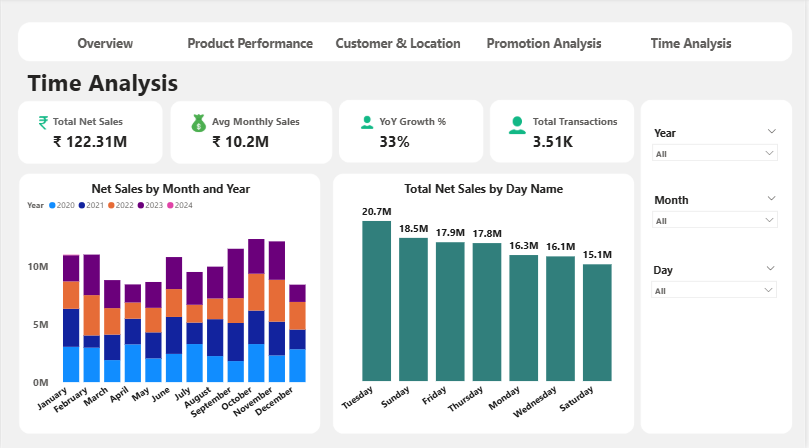

What the dashboard file says about the page in this screenshot:
{"tool":"powerbi","page":{"name":"Time Analysis","canvas":[1280,720],"ordinal":4},"visuals":[{"type":"columnChart","title":"Net Sales by Month and Year","fields":{"Category":["fact_sales.month_name"],"Y":["Measures (2).Total Net Sales"],"Series":["fact_sales.Year"]},"box":[36.3,290.6,467,401.3],"z":0},{"type":"clusteredColumnChart","fields":{"Category":["fact_sales.Day Name"],"Y":["Measures (2).Total Net Sales"]},"box":[534.5,290.6,467,401.3],"z":1000},{"type":"actionButton","title":"Overview","box":[55.8,49.2,220,45],"z":2000},{"type":"actionButton","box":[287.2,49.2,219.9,44.3],"z":3000},{"type":"actionButton","box":[521.8,49.2,219.9,44.3],"z":4000},{"type":"actionButton","box":[754.9,49.2,219.9,44.3],"z":5000},{"type":"actionButton","box":[989.5,49.2,219.9,44.3],"z":6000},{"type":"cardVisual","fields":{"Data":["Measures (2).Total Net Sales"]},"box":[36.3,160.9,190.3,107.2],"z":7000},{"type":"cardVisual","fields":{"Data":["Measures (2).Total Transactions"]},"box":[787,160.9,226.6,107.2],"z":8000},{"type":"cardVisual","fields":{"Data":["Measures (2).Avg Monthly Sales"]},"box":[283.7,160.9,250.8,107.2],"z":9000},{"type":"cardVisual","fields":{"Data":["Measures (2).YoY Growth %"]},"box":[553.5,160.9,233.5,107.2],"z":10000},{"type":"slicer","fields":{"Values":["fact_sales.Year"]},"box":[1027,197,219.9,77.1],"z":11000},{"type":"slicer","fields":{"Values":["fact_sales.month_name"]},"box":[1027.5,304.4,219.7,76.1],"z":12000},{"type":"slicer","fields":{"Values":["fact_sales.Day Name"]},"box":[1025.7,415.1,219.7,76.1],"z":13000},{"type":"textbox","box":[36.3,103.8,517.2,69.2],"z":14000}]}

Visuals, with their boxes in screenshot pixels (x1, y1, x2, y2), scaled from the page's 1280x720 canvas onto the 809x448 screenshot:
"Net Sales by Month and Year" columnChart: [x1=23, y1=181, x2=318, y2=431]
clusteredColumnChart - fact_sales.Day Name x Measures (2).Total Net Sales: [x1=338, y1=181, x2=633, y2=431]
"Overview" actionButton: [x1=35, y1=31, x2=174, y2=59]
actionButton: [x1=182, y1=31, x2=321, y2=58]
actionButton: [x1=330, y1=31, x2=469, y2=58]
actionButton: [x1=477, y1=31, x2=616, y2=58]
actionButton: [x1=625, y1=31, x2=764, y2=58]
cardVisual - Measures (2).Total Net Sales: [x1=23, y1=100, x2=143, y2=167]
cardVisual - Measures (2).Total Transactions: [x1=497, y1=100, x2=641, y2=167]
cardVisual - Measures (2).Avg Monthly Sales: [x1=179, y1=100, x2=338, y2=167]
cardVisual - Measures (2).YoY Growth %: [x1=350, y1=100, x2=497, y2=167]
slicer - fact_sales.Year: [x1=649, y1=123, x2=788, y2=171]
slicer - fact_sales.month_name: [x1=649, y1=189, x2=788, y2=237]
slicer - fact_sales.Day Name: [x1=648, y1=258, x2=787, y2=306]
textbox: [x1=23, y1=65, x2=350, y2=108]
